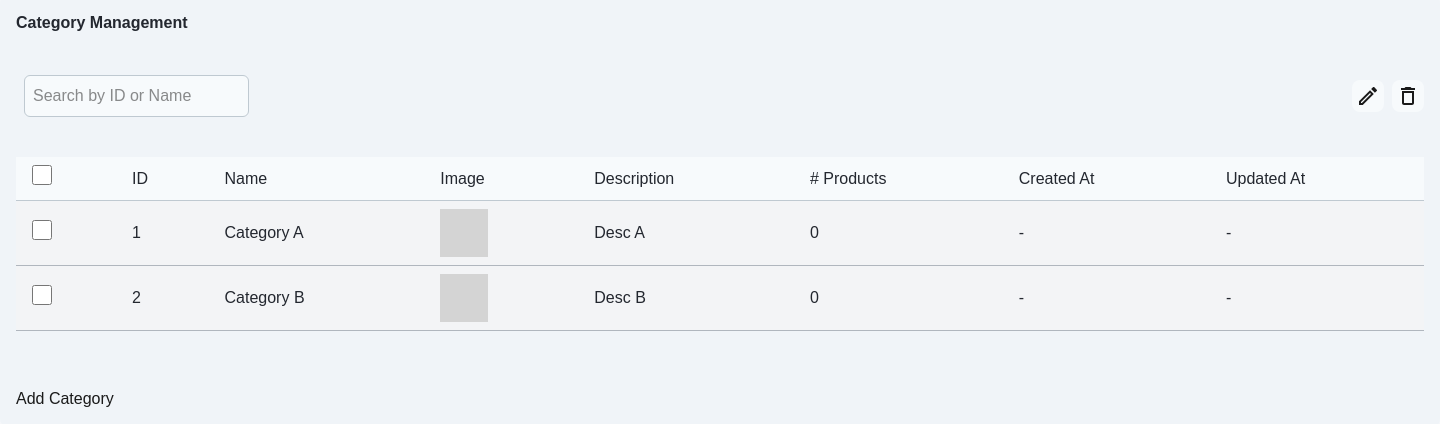
CategoryTable › shows alert if trying to delete with nothing selected
The width and height of the screenshot is (1440, 424).
Step 1. Click the button titled "delete selected category" → (1408, 96), box x1=1392 y1=80 x2=1424 y2=112
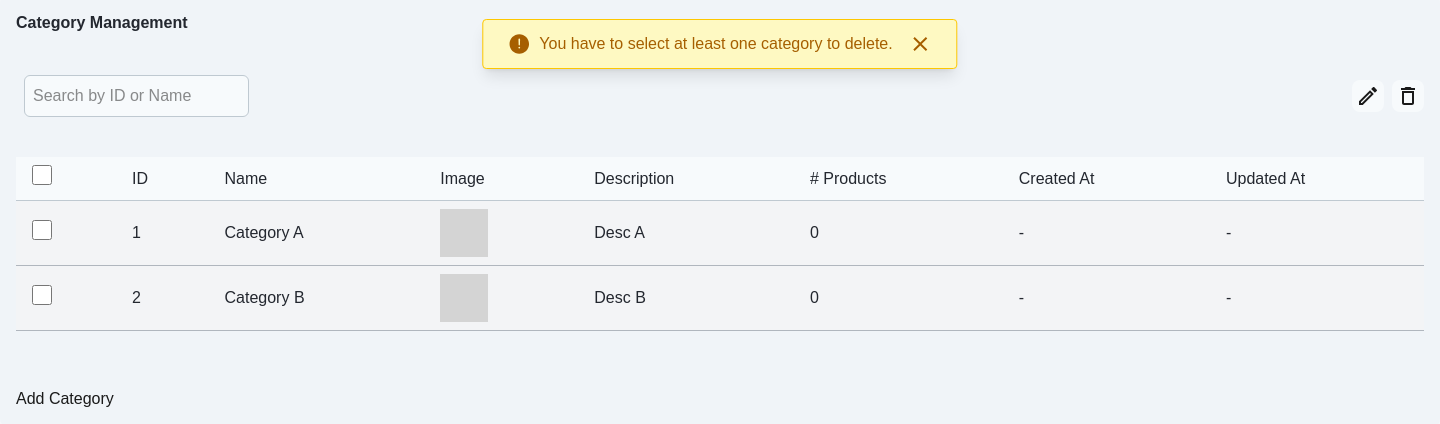
Check: the text "You have to select at least one category to delete." is shown, box x1=539 y1=32 x2=893 y2=56
